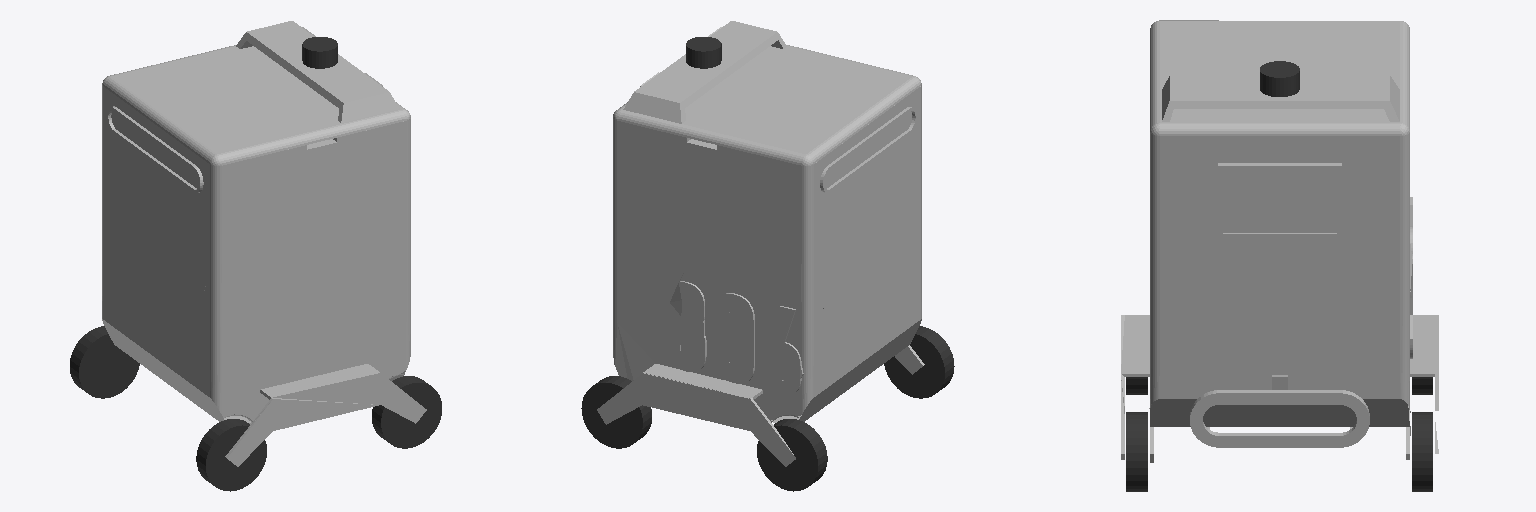
robot.urdf — potrol:
<?xml version="1.0" ?>
<!-- =================================================================================== -->
<!-- |    This document was autogenerated by xacro from [local-path]/Nurmukhan/ros2_project/potrol_robot/src/potrol_description_cmake/urdf/potrol_diff_drive.xacro | -->
<!-- |    EDITING THIS FILE BY HAND IS NOT RECOMMENDED                                 | -->
<!-- =================================================================================== -->
<robot name="potrol">
  <material name="Blue">
    <color rgba="0.03 0.01 0.97 1"/>
  </material>
  <material name="Yellow">
    <color rgba="0.82 0.8 0.08 1"/>
  </material>
  <material name="Black">
    <color rgba="0.27 0.27 0.27 1"/>
  </material>
  <material name="gray2">
    <color rgba="0.76 0.76 0.76 1"/>
  </material>
  <material name="gray">
    <color rgba="0.76 0.76 0.76 1"/>
  </material>
  <link name="base_footprint"> 
    </link>
  <!-- BASE LINK -->
  <link name="base_link">
    <inertial>
      <origin rpy="0.0 0.0 1.57" xyz="0.0 0.0 0.58"/>
      <mass value="10.0"/>
      <inertia ixx="0.544083333333" ixy="0" ixz="0" iyy="0.544083333333" iyz="0" izz="0.384"/>
    </inertial>
    <visual>
      <origin rpy="0 0 1.57" xyz="0 0 0"/>
      <geometry>
        <!-- <box size="0.48 0.48 0.650"/> -->
        <mesh filename="package://potrol_description_cmake/meshes/robo_frame.stl" scale="0.75 0.75 0.75"/>
      </geometry>
      <material name="gray"/>
    </visual>
    <collision>
      <origin rpy="0 0 1.57" xyz="0 0 0"/>
      <geometry>
        <!-- <box size="0.48 0.48 0.650"/> -->
        <mesh filename="package://potrol_description_cmake/meshes/robo_frame.stl" scale="0.75 0.75 0.75"/>
      </geometry>
    </collision>
  </link>
  <joint name="base_joint" type="fixed">
    <origin rpy="0.0 0.0 0" xyz="0.0 0.0 0.03"/>
    <!-- <origin xyz="0.0 0.0 0.42" rpy="0.0 0.0 1.57"/> -->
    <parent link="base_footprint"/>
    <child link="base_link"/>
    <axis xyz="0.0 0.0 0"/>
  </joint>
  <!-- BASE LINK END -->
  <!-- CAMERA -->
  <joint name="camera_joint" type="fixed">
    <parent link="base_link"/>
    <child link="camera_link"/>
    <origin rpy="0 0 0" xyz="0.249564 -0.0 0.227776"/>
  </joint>
  <!-- CAMERA END -->
  <!-- LiDAR -->
  <joint name="laser_joint" type="fixed">
    <parent link="base_link"/>
    <child link="laser_frame"/>
    <origin rpy="0 0 0" xyz="0.156491 0.0 0.813175"/>
  </joint>
  <link name="laser_frame">
    <visual>
      <geometry>
        <cylinder length="0.04" radius="0.0375"/>
      </geometry>
      <material name="Black"/>
    </visual>
    <collision>
      <geometry>
        <cylinder length="0.03" radius="0.0375"/>
      </geometry>
    </collision>
    <inertial>
      <origin rpy="0.0 0.0 0.0" xyz="0.0 0.0 0.0"/>
      <mass value="0.1"/>
      <inertia ixx="1.01633333333" ixy="0" ixz="0" iyy="1.01633333333" iyz="0" izz="0.682666666667"/>
    </inertial>
  </link>
  <!-- LiDAR END -->
  <!-- WHEEL -->
  <link name="wheel_forward_left_link">
    <inertial>
      <origin rpy="0.0 0.0 0.0" xyz="0.0 0.0 0.0"/>
      <mass value="4.1"/>
      <inertia ixx="0.00631229166667" ixy="0" ixz="0" iyy="0.00631229166667" iyz="0" izz="0.01153125"/>
    </inertial>
    <visual>
      <geometry>
        <cylinder length="0.04" radius="0.075"/>
      </geometry>
      <material name="Black"/>
    </visual>
    <collision>
      <geometry>
        <cylinder length="0.038" radius="0.075"/>
      </geometry>
    </collision>
  </link>
  <gazebo reference="wheel_forward_left_link">
    <material>Gazebo/Gray</material>
    <mu1>1000000000000.0</mu1>
    <mu2>1000000000000.0</mu2>
    <!-- <kp>10000000000.0</kp>
          <kp>10.0</kp> -->
    <!-- <minDepth>0.001</minDepth> -->
  </gazebo>
  <joint name="wheel_forward_left_joint" type="continuous">
    <origin rpy="-1.57 0 0" xyz="0.21375 0.26775 0.1"/>
    <parent link="base_footprint"/>
    <child link="wheel_forward_left_link"/>
    <axis xyz="0.0 0.0 1.0"/>
  </joint>
  <!-- <transmission name="wheel_${name}_transmission">
            <type>transmission_interface/SimpleTransmission</type>
            <joint name="wheel_${name}_joint">
              <hardwareInterface>hardware_interface/VelocityJointInterface</hardwareInterface>
            </joint>
            <actuator name="wheel_${name}_motor">
              <hardwareInterface>VelocityJointInterface</hardwareInterface>
              <mechanicalReduction>1</mechanicalReduction>
            </actuator>
        </transmission>
        <gazebo reference="wheel_${name}_link">
          <material>Gazebo/Gray</material>
          <mu1>1000000000000.0</mu1>
          <mu2>1000000000000.0</mu2> -->
  <!-- <kp>10000000000.0</kp>
          <kp>10.0</kp> -->
  <!-- <minDepth>0.001</minDepth> -->
  <!-- </gazebo> -->
  <link name="wheel_forward_right_link">
    <inertial>
      <origin rpy="0.0 0.0 0.0" xyz="0.0 0.0 0.0"/>
      <mass value="4.1"/>
      <inertia ixx="0.00631229166667" ixy="0" ixz="0" iyy="0.00631229166667" iyz="0" izz="0.01153125"/>
    </inertial>
    <visual>
      <geometry>
        <cylinder length="0.04" radius="0.075"/>
      </geometry>
      <material name="Black"/>
    </visual>
    <collision>
      <geometry>
        <cylinder length="0.038" radius="0.075"/>
      </geometry>
    </collision>
  </link>
  <gazebo reference="wheel_forward_right_link">
    <material>Gazebo/Gray</material>
    <mu1>1000000000000.0</mu1>
    <mu2>1000000000000.0</mu2>
    <!-- <kp>10000000000.0</kp>
          <kp>10.0</kp> -->
    <!-- <minDepth>0.001</minDepth> -->
  </gazebo>
  <joint name="wheel_forward_right_joint" type="continuous">
    <origin rpy="-1.57 0 0" xyz="0.21375 -0.26775 0.1"/>
    <parent link="base_footprint"/>
    <child link="wheel_forward_right_link"/>
    <axis xyz="0.0 0.0 1.0"/>
  </joint>
  <!-- <transmission name="wheel_${name}_transmission">
            <type>transmission_interface/SimpleTransmission</type>
            <joint name="wheel_${name}_joint">
              <hardwareInterface>hardware_interface/VelocityJointInterface</hardwareInterface>
            </joint>
            <actuator name="wheel_${name}_motor">
              <hardwareInterface>VelocityJointInterface</hardwareInterface>
              <mechanicalReduction>1</mechanicalReduction>
            </actuator>
        </transmission>
        <gazebo reference="wheel_${name}_link">
          <material>Gazebo/Gray</material>
          <mu1>1000000000000.0</mu1>
          <mu2>1000000000000.0</mu2> -->
  <!-- <kp>10000000000.0</kp>
          <kp>10.0</kp> -->
  <!-- <minDepth>0.001</minDepth> -->
  <!-- </gazebo> -->
  <link name="wheel_back_right_link">
    <inertial>
      <origin rpy="0.0 0.0 0.0" xyz="0.0 0.0 0.0"/>
      <mass value="4.1"/>
      <inertia ixx="0.00631229166667" ixy="0" ixz="0" iyy="0.00631229166667" iyz="0" izz="0.01153125"/>
    </inertial>
    <visual>
      <geometry>
        <cylinder length="0.04" radius="0.075"/>
      </geometry>
      <material name="Black"/>
    </visual>
    <collision>
      <geometry>
        <cylinder length="0.038" radius="0.075"/>
      </geometry>
    </collision>
  </link>
  <gazebo reference="wheel_back_right_link">
    <material>Gazebo/Gray</material>
    <mu1>1000000000000.0</mu1>
    <mu2>1000000000000.0</mu2>
    <!-- <kp>10000000000.0</kp>
          <kp>10.0</kp> -->
    <!-- <minDepth>0.001</minDepth> -->
  </gazebo>
  <joint name="wheel_back_right_joint" type="continuous">
    <origin rpy="-1.57 0 0" xyz="-0.21375 -0.26775 0.1"/>
    <parent link="base_footprint"/>
    <child link="wheel_back_right_link"/>
    <axis xyz="0.0 0.0 1.0"/>
  </joint>
  <!-- <transmission name="wheel_${name}_transmission">
            <type>transmission_interface/SimpleTransmission</type>
            <joint name="wheel_${name}_joint">
              <hardwareInterface>hardware_interface/VelocityJointInterface</hardwareInterface>
            </joint>
            <actuator name="wheel_${name}_motor">
              <hardwareInterface>VelocityJointInterface</hardwareInterface>
              <mechanicalReduction>1</mechanicalReduction>
            </actuator>
        </transmission>
        <gazebo reference="wheel_${name}_link">
          <material>Gazebo/Gray</material>
          <mu1>1000000000000.0</mu1>
          <mu2>1000000000000.0</mu2> -->
  <!-- <kp>10000000000.0</kp>
          <kp>10.0</kp> -->
  <!-- <minDepth>0.001</minDepth> -->
  <!-- </gazebo> -->
  <link name="wheel_back_left_link">
    <inertial>
      <origin rpy="0.0 0.0 0.0" xyz="0.0 0.0 0.0"/>
      <mass value="4.1"/>
      <inertia ixx="0.00631229166667" ixy="0" ixz="0" iyy="0.00631229166667" iyz="0" izz="0.01153125"/>
    </inertial>
    <visual>
      <geometry>
        <cylinder length="0.04" radius="0.075"/>
      </geometry>
      <material name="Black"/>
    </visual>
    <collision>
      <geometry>
        <cylinder length="0.038" radius="0.075"/>
      </geometry>
    </collision>
  </link>
  <gazebo reference="wheel_back_left_link">
    <material>Gazebo/Gray</material>
    <mu1>1000000000000.0</mu1>
    <mu2>1000000000000.0</mu2>
    <!-- <kp>10000000000.0</kp>
          <kp>10.0</kp> -->
    <!-- <minDepth>0.001</minDepth> -->
  </gazebo>
  <joint name="wheel_back_left_joint" type="continuous">
    <origin rpy="-1.57 0 0" xyz="-0.21375 0.26775 0.1"/>
    <parent link="base_footprint"/>
    <child link="wheel_back_left_link"/>
    <axis xyz="0.0 0.0 1.0"/>
  </joint>
  <!-- <transmission name="wheel_${name}_transmission">
            <type>transmission_interface/SimpleTransmission</type>
            <joint name="wheel_${name}_joint">
              <hardwareInterface>hardware_interface/VelocityJointInterface</hardwareInterface>
            </joint>
            <actuator name="wheel_${name}_motor">
              <hardwareInterface>VelocityJointInterface</hardwareInterface>
              <mechanicalReduction>1</mechanicalReduction>
            </actuator>
        </transmission>
        <gazebo reference="wheel_${name}_link">
          <material>Gazebo/Gray</material>
          <mu1>1000000000000.0</mu1>
          <mu2>1000000000000.0</mu2> -->
  <!-- <kp>10000000000.0</kp>
          <kp>10.0</kp> -->
  <!-- <minDepth>0.001</minDepth> -->
  <!-- </gazebo> -->
  <!-- <joint name="camera_joint" type="fixed">
        <parent link="base_link"/>
        <child link="camera_link"/>
        <origin xyz="0.37 -0.004 0.035" rpy="0 0 0"/>
    </joint> -->
  <link name="camera_link">
    <visual>
      <geometry>
        <box size="0.010 0.03 0.03"/>
      </geometry>
      <material name="red"/>
    </visual>
  </link>
  <joint name="camera_optical_joint" type="fixed">
    <parent link="camera_link"/>
    <child link="camera_link_optical"/>
    <origin rpy="-1.5707963267948966 0 -1.5707963267948966" xyz="0 0 0"/>
  </joint>
  <link name="camera_link_optical"/>
  <gazebo reference="camera_link">
    <material>Gazebo/Red</material>
    <sensor name="camera" type="depth">
      <pose> 0 0 0 0 0 0 </pose>
      <visualize>true</visualize>
      <update_rate>10</update_rate>
      <camera>
        <horizontal_fov>1.089</horizontal_fov>
        <image>
          <format>B8G8R8</format>
          <width>640</width>
          <height>480</height>
        </image>
        <clip>
          <near>0.05</near>
          <far>8.0</far>
        </clip>
      </camera>
      <plugin filename="libgazebo_ros_camera.so" name="camera_controller">
        <frame_name>camera_link_optical</frame_name>
        <min_depth>0.1</min_depth>
        <max_depth>100.0</max_depth>
      </plugin>
    </sensor>
  </gazebo>
  <!-- camera -->
  <!-- <xacro:macro name="camera" params="link_name">

    <joint name="${link_name}_joint" type="fixed">
        <axis xyz="0 1 0" />
        <origin xyz="0.333633 -0.006 0.1443382" rpy="0 0 0"/>
        <parent link="base_link"/>
        <child link="${link_name}"/>
    </joint> -->
  <!-- Camera -->
  <!-- <link name="${link_name}">
        <collision>
            <origin xyz="0 0 0" rpy="0 0 1.57"/>
            <geometry>
                <mesh filename="package://potrol_description_cmake/stl/ZED2i.stl" scale="0.001 0.001 0.001"/>
            </geometry>
        </collision>

        <visual>
            <origin xyz="0 0 0" rpy="0 0 1.57"/>
            <geometry>
                <mesh filename="package://potrol_description_cmake/stl/ZED2i.stl" scale="0.001 0.001 0.001"/>

            </geometry>
        </visual>

        <inertial>
            <mass value="1e-5" />
            <origin xyz="0 0 0" rpy="0 0 0"/>
            <inertia ixx="1e-6" ixy="0" ixz="0" iyy="1e-6" iyz="0" izz="1e-6" />
        </inertial>
    </link>
    <gazebo reference="${link_name}">
        <sensor name="${link_name}_sens" type="depth">
            <update_rate>50</update_rate>
            <camera>
                <horizontal_fov>1.047198</horizontal_fov>
                <image>
                    <width>640</width>
                    <height>480</height>
                    <format>R8G8B8</format>
                </image>
                <clip>
                    <near>0.05</near>
                    <far>3</far>
                </clip>
            </camera>
            <plugin name="${link_name}_controller" filename="libgazebo_ros_openni_kinect.so">
            <baseline>0.2</baseline>
            <alwaysOn>true</alwaysOn>
            <updateRate>1.0</updateRate>
            <cameraName>${link_name}</cameraName>
            <imageTopicName>/${link_name}/color/image_raw</imageTopicName>
            <cameraInfoTopicName>/${link_name}/color/camera_info</cameraInfoTopicName>
            <depthImageTopicName>/${link_name}/depth/image_raw</depthImageTopicName>
            <depthImageInfoTopicName>/${link_name}/depth/camera_info</depthImageInfoTopicName>
            <pointCloudTopicName>/${link_name}/depth/points</pointCloudTopicName>
            <frameName>${link_name}_frame</frameName>
            <pointCloudCutoff>0.5</pointCloudCutoff>
            <pointCloudCutoffMax>3.0</pointCloudCutoffMax>
            <distortionK1>0.00000001</distortionK1>
            <distortionK2>0.00000001</distortionK2>
            <distortionK3>0.00000001</distortionK3>
            <distortionT1>0.00000001</distortionT1>
            <distortionT2>0.00000001</distortionT2>
            <CxPrime>0</CxPrime>
            <Cx>0</Cx>
            <Cy>0</Cy>
            <focalLength>0</focalLength>
            <hackBaseline>0</hackBaseline>
            </plugin>
        </sensor>
    </gazebo>
</xacro:macro>

<xacro:camera link_name="ZED2i"/>  -->
  <!-- lidar <link name="laser_frame"> -->
  <gazebo reference="laser_frame">
    <material>Gazebo/Black</material>
    <sensor name="laser" type="ray">
      <pose> 0 0 0 0 0 0 </pose>
      <visualize>false</visualize>
      <update_rate>10</update_rate>
      <ray>
        <scan>
          <horizontal>
            <samples>360</samples>
            <min_angle>-3.14</min_angle>
            <max_angle>3.14</max_angle>
          </horizontal>
        </scan>
        <range>
          <min>0.3</min>
          <max>12</max>
        </range>
      </ray>
      <plugin filename="libgazebo_ros_ray_sensor.so" name="laser_controller">
        <ros>
          <argument>~/out:=scan</argument>
        </ros>
        <output_type>sensor_msgs/LaserScan</output_type>
        <frame_name>laser_frame</frame_name>
      </plugin>
    </sensor>
  </gazebo>
  <ros2_control name="GazeboSystem" type="system">
    <hardware>
      <plugin>gazebo_ros2_control/GazeboSystem</plugin>
    </hardware>
    <joint name="wheel_forward_right_joint">
      <command_interface name="velocity">
        <param name="min">-5</param>
        <param name="max">5</param>
      </command_interface>
      <state_interface name="position"/>
      <state_interface name="velocity"/>
    </joint>
    <joint name="wheel_forward_left_joint">
      <command_interface name="velocity">
        <param name="min">-5</param>
        <param name="max">5</param>
      </command_interface>
      <state_interface name="position"/>
      <state_interface name="velocity"/>
    </joint>
    <joint name="wheel_back_right_joint">
      <command_interface name="velocity">
        <param name="min">-5</param>
        <param name="max">5</param>
      </command_interface>
      <state_interface name="position"/>
      <state_interface name="velocity"/>
    </joint>
    <joint name="wheel_back_left_joint">
      <command_interface name="velocity">
        <param name="min">-5</param>
        <param name="max">5</param>
      </command_interface>
      <state_interface name="position"/>
      <state_interface name="velocity"/>
    </joint>
    <!-- <joint name="wheel_forward_right_joint">
            <command_interface name="velocity">
              <param name="min">-5</param>
              <param name="max">5</param>
            </command_interface>
            <state_interface name="position"/>
            <state_interface name="velocity"/>
          </joint>

          <joint name="wheel_forward_left_joint">
            <command_interface name="velocity">
              <param name="min">-5</param>
              <param name="max">5</param>
            </command_interface>
            <state_interface name="position"/>
            <state_interface name="velocity"/>
          </joint>
          
          <joint name="wheel_backward_right_joint">
            <command_interface name="velocity">
              <param name="min">-5</param>
              <param name="max">5</param>
            </command_interface>
            <state_interface name="position"/>
            <state_interface name="velocity"/>
          </joint>
          
          <joint name="wheel_backward_left_joint">
            <command_interface name="velocity">
              <param name="min">-5</param>
              <param name="max">5</param>
            </command_interface>
            <state_interface name="position"/>
            <state_interface name="velocity"/>
          </joint> -->
  </ros2_control>
  <gazebo>
    <plugin filename="libgazebo_ros2_control.so" name="gazebo_ros2_control">
      <parameters>[local-path]/Nurmukhan/ros2_project/potrol_robot/install/potrol_bringup/share/potrol_bringup/config/controller_configuration_diff_drive.yaml</parameters>
    </plugin>
  </gazebo>
  <!-- <xacro:include filename="camera2.xacro"/> -->
</robot>

--- Render facts (derived) ---
The picture shows the robot from 3 angles, left to right: view 1: azimuth 30°, elevation 25°; view 2: azimuth 150°, elevation 25°; view 3: azimuth 270°, elevation 25°; orthographic projection.
Robot: potrol — 9 links, 8 joints (4 continuous, 4 fixed); root link base_footprint; default pose: every joint at zero.
Links seen in each view (by area): view 1: base_link, wheel_back_left_link, wheel_back_right_link, wheel_forward_right_link, laser_frame; view 2: base_link, wheel_back_left_link, wheel_back_right_link, wheel_forward_left_link, laser_frame; view 3: base_link, wheel_forward_right_link, wheel_forward_left_link, laser_frame.
Boxes of the visible links, <box> form: base_link: <box>102,21,426,466</box>; wheel_back_left_link: <box>70,326,139,398</box>; wheel_back_right_link: <box>196,419,266,491</box>; wheel_forward_right_link: <box>372,376,441,448</box>; laser_frame: <box>302,37,337,68</box>; base_link: <box>597,21,924,466</box>; wheel_back_left_link: <box>757,419,827,491</box>; wheel_back_right_link: <box>884,326,954,398</box>; wheel_forward_left_link: <box>581,376,651,448</box>; laser_frame: <box>686,37,721,68</box>; base_link: <box>1121,20,1438,462</box>; wheel_forward_right_link: <box>1126,412,1147,491</box>; wheel_forward_left_link: <box>1412,412,1432,491</box>; laser_frame: <box>1260,61,1299,96</box>.
Size in the robot's own frame: 0.5775 by 0.5966 by 0.8382 metres.
1 mesh visuals loaded from 1 distinct referenced files (1 binary STL).
